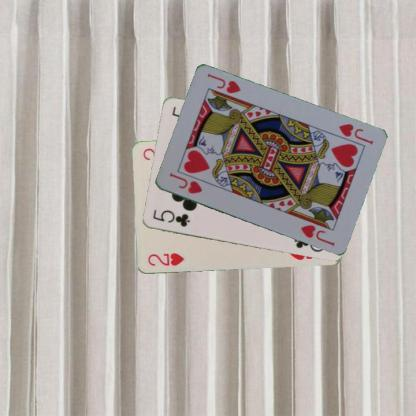2h: (145, 250, 185, 268)
5c: (150, 207, 191, 228)
Jh: (166, 170, 204, 195), (336, 121, 374, 146)
